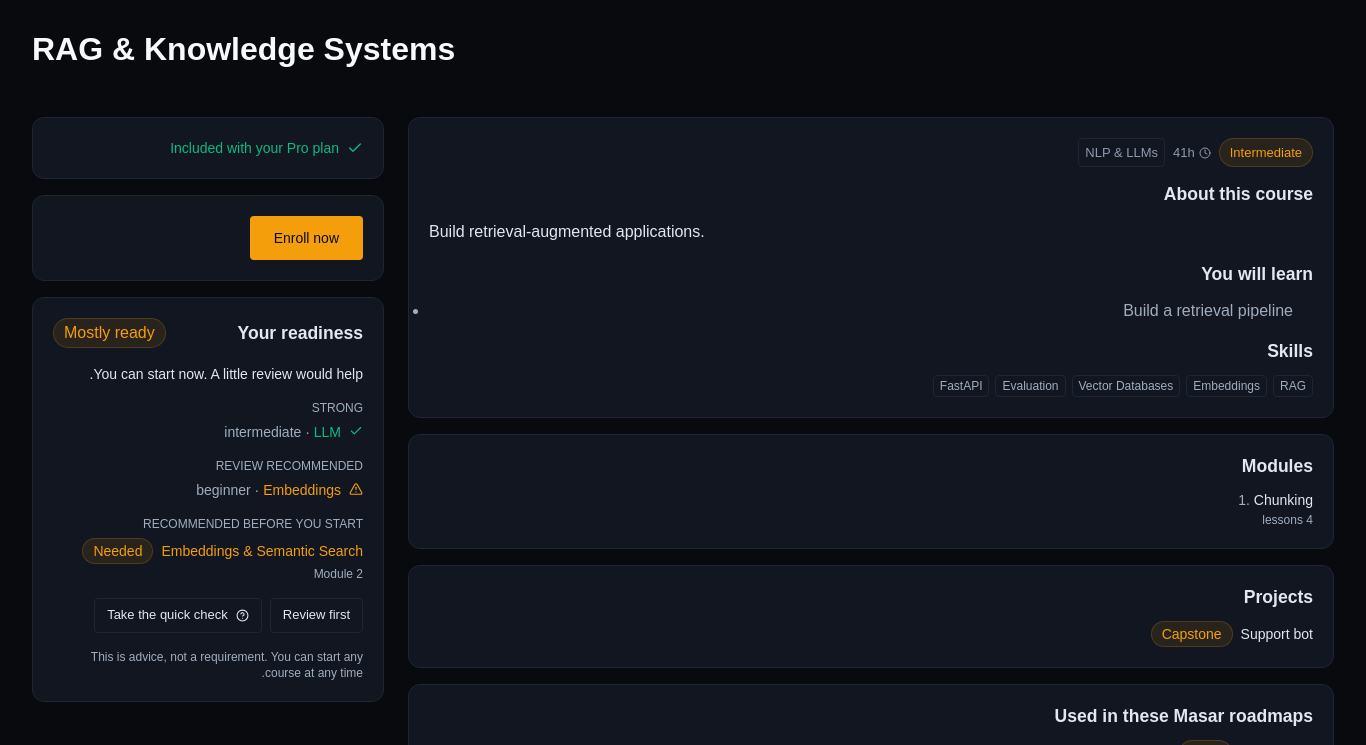
a course on its own: no track, no goal › takes the quick readiness check, sends only the answers, and shows the result the server worked out
Step 1. Click the button "Take the quick check" → (178, 615), box [94,598,262,633]
(page scrolled)
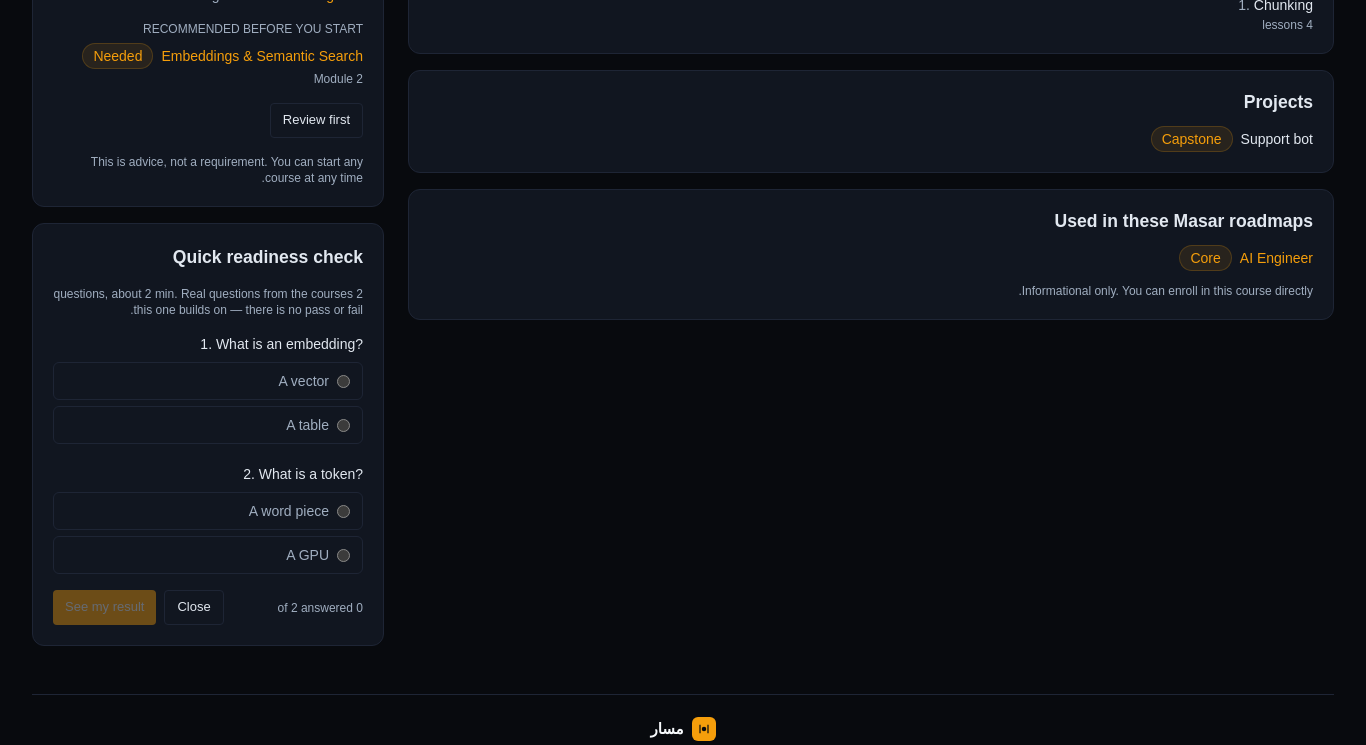
Check: the button "See my result" is disabled, box [53,590,156,625]
Step 2. Click the radio button labelled "A vector" → (344, 382), box [337,375,350,388]
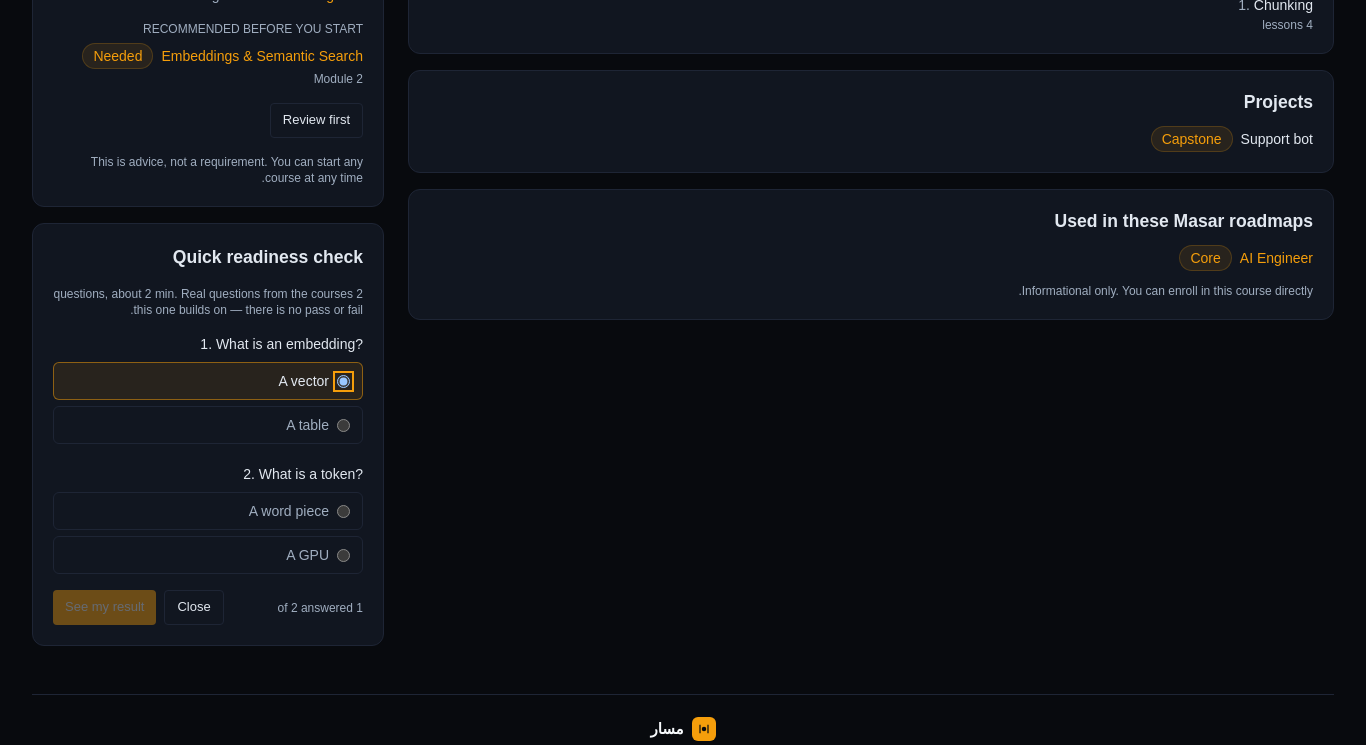
Step 3. Click the radio button labelled "A word piece" → (344, 512), box [337,505,350,518]
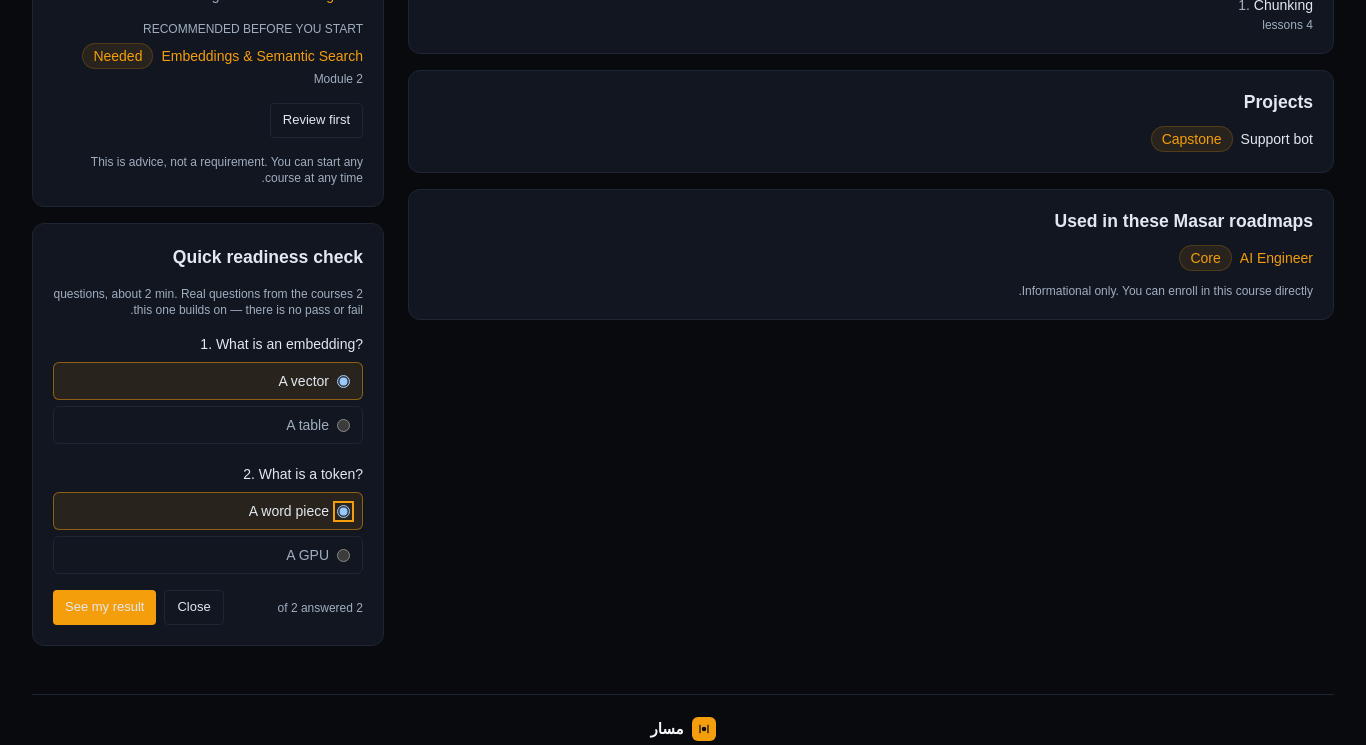
Step 4. Click the button "See my result" → (105, 608), box [53,590,156,625]
(page scrolled)
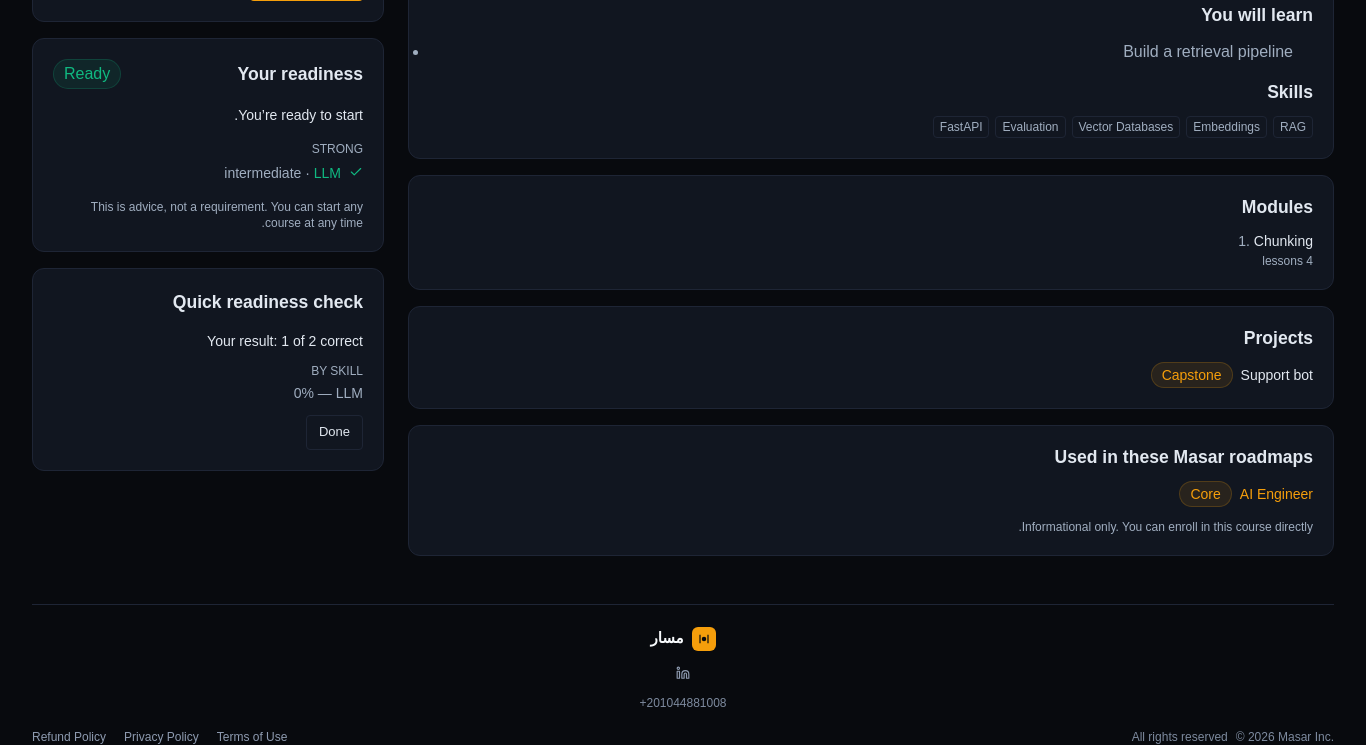
Check: the text "Ready" is shown, box [53,59,121,89]
Check: the text "Your result: 1 of 2 correct" is shown, box [207,333,363,349]
